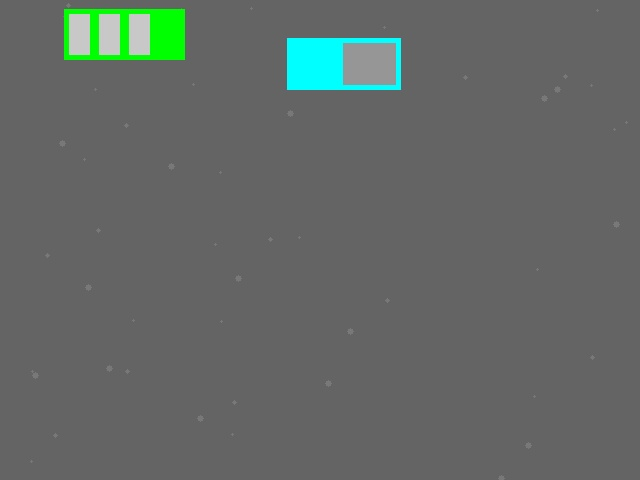bus: (64, 9, 184, 59)
truck: (287, 38, 400, 89)
